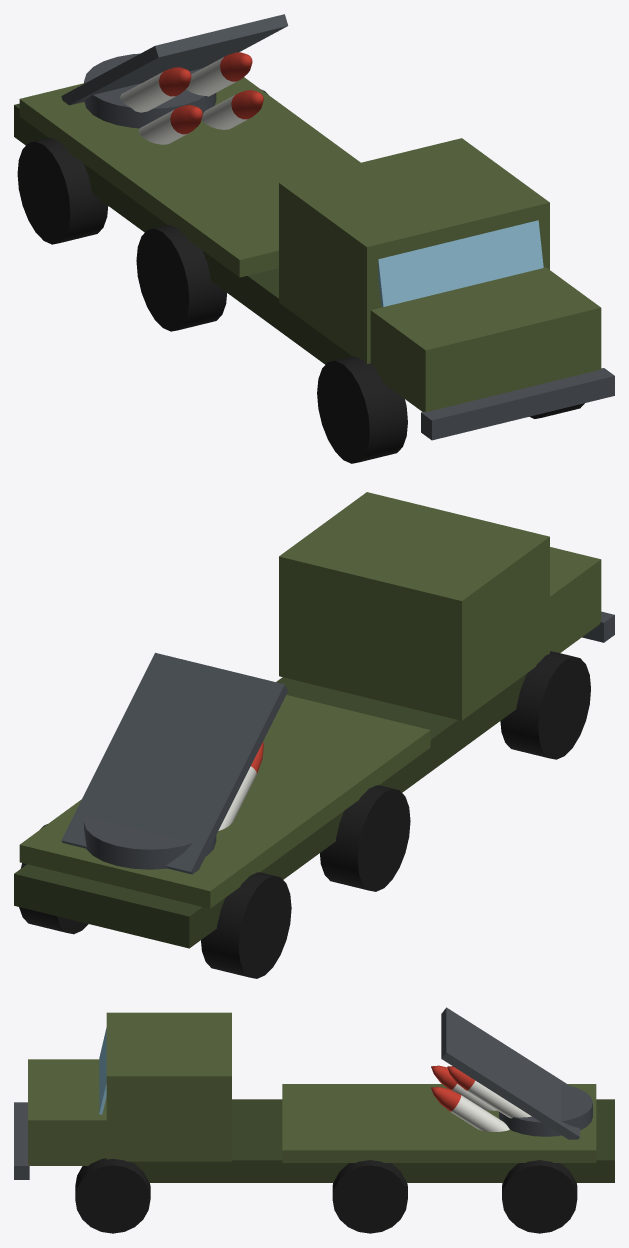
The model's file is missile_truck.glb.
3 views of the same model, one above another, from view 1: azimuth 30°, elevation 25°; view 2: azimuth 150°, elevation 25°; view 3: azimuth 270°, elevation 25° (orthographic). The views are drawn at different scales.
Parts seen in each view (by area): view 1: missile_truck; view 2: missile_truck; view 3: missile_truck.
Boxes of the visible parts, box(x1,y1,x2,y2) form: missile_truck: box(14, 14, 614, 463); missile_truck: box(14, 492, 614, 978); missile_truck: box(14, 1007, 614, 1233).
Bounding box in the file's own units: 2.9 × 2.91 × 9.57.
